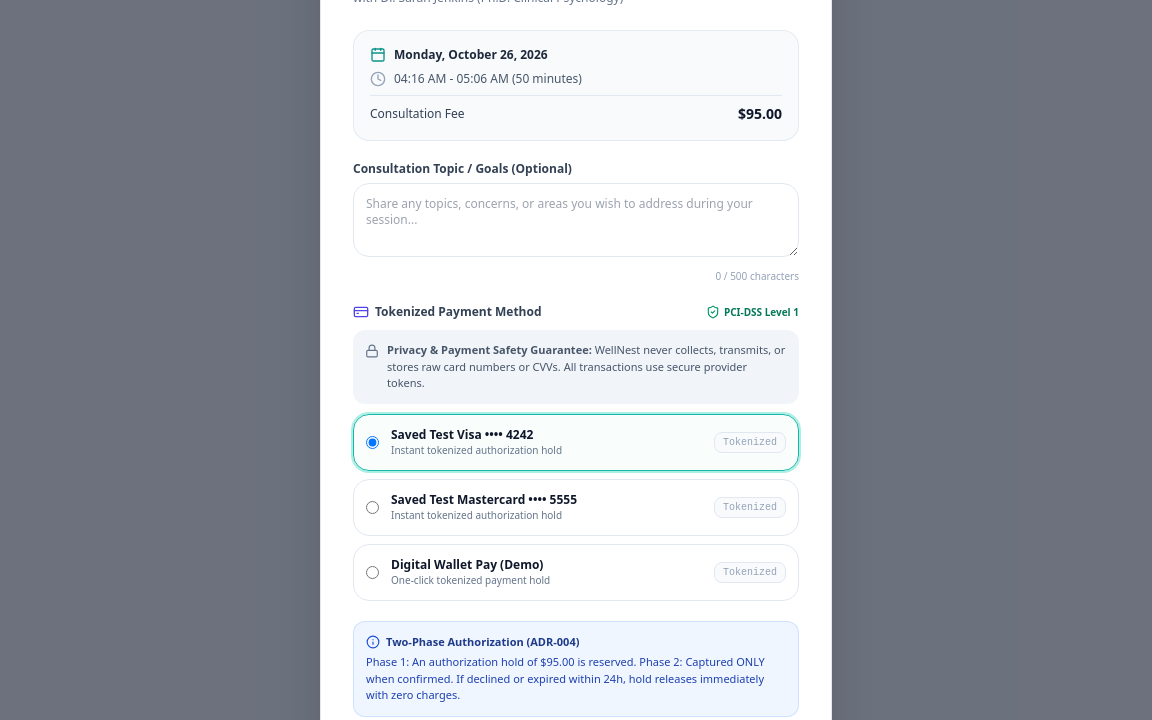
Test case: Payment Tokenization (PCI-DSS) & Verification Gating Security › PCI-DSS Compliance (CO-3, SE-7) › submits booking using tokenized payment reference with 2-phase authorization hold (ADR-004)
The image size is (1152, 720).
Enter optional notes
Replace the text in the text box with test id "booking-notes-input" with "Exam anxiety support" at (576, 220), box [353,183,799,257]
(page scrolled)
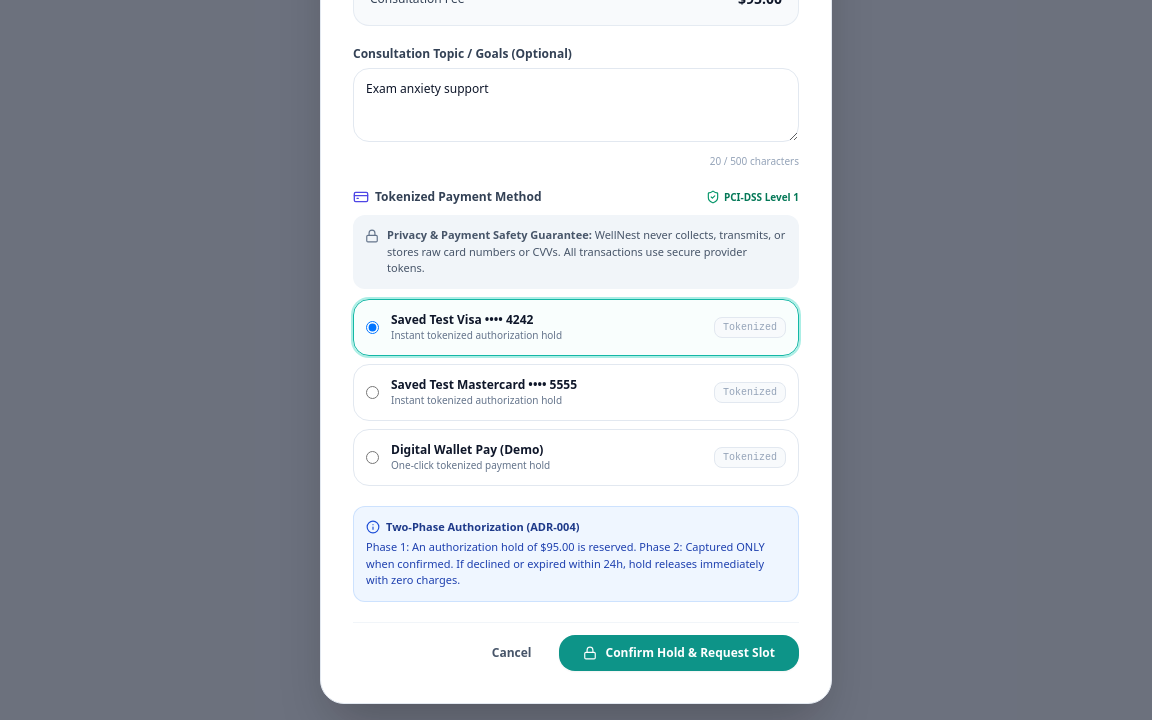
Click the button with test id "confirm-booking-submit-btn" at (679, 653), box [560,635,799,671]
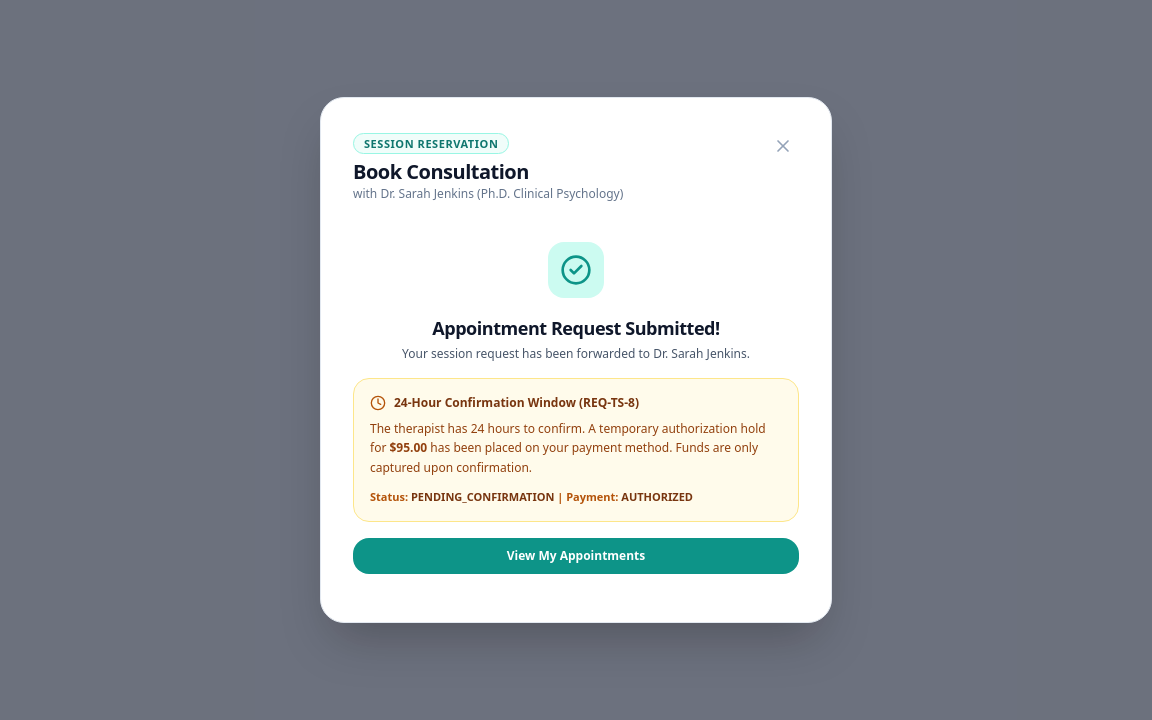
Check: the element with test id "booking-success-view" is shown, box [353,226,799,590]
